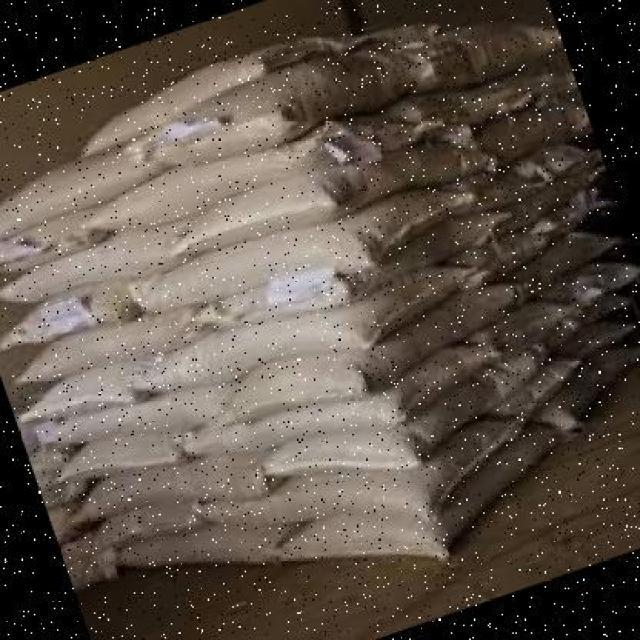gunny_bag: (134, 173, 471, 317), (263, 329, 573, 485), (213, 287, 554, 427), (263, 415, 569, 564), (82, 104, 430, 230), (133, 265, 483, 384), (177, 344, 507, 457), (204, 221, 519, 338), (78, 18, 346, 154), (205, 415, 527, 524), (141, 42, 425, 165), (175, 150, 497, 250), (0, 208, 208, 305), (0, 143, 175, 240), (44, 372, 246, 447), (438, 193, 615, 274), (15, 314, 204, 380), (400, 23, 563, 99), (384, 71, 581, 133), (87, 454, 272, 520), (109, 514, 311, 574), (409, 103, 590, 164), (0, 275, 152, 347), (447, 138, 594, 212), (16, 350, 159, 425), (477, 147, 609, 227), (57, 422, 216, 479), (0, 207, 120, 274), (538, 345, 640, 423), (479, 353, 591, 418), (479, 233, 618, 283), (461, 298, 588, 351), (93, 494, 207, 551), (344, 18, 469, 58), (545, 262, 640, 306), (564, 294, 638, 346), (47, 478, 100, 544), (562, 318, 640, 358), (30, 447, 81, 504), (67, 551, 128, 595), (61, 534, 115, 569), (14, 414, 43, 460)
